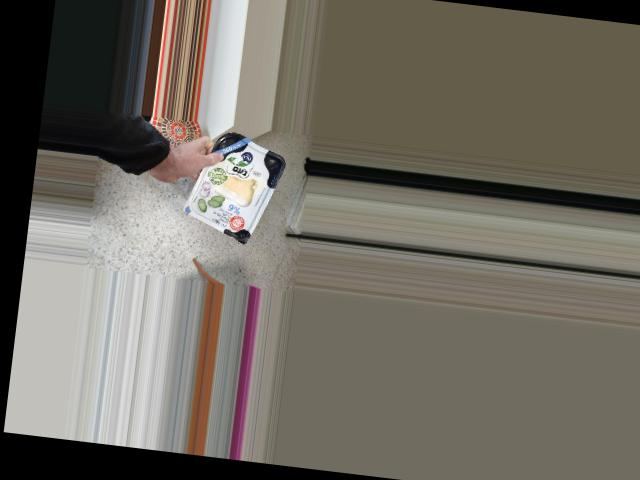cheese: (192, 139, 275, 235)
